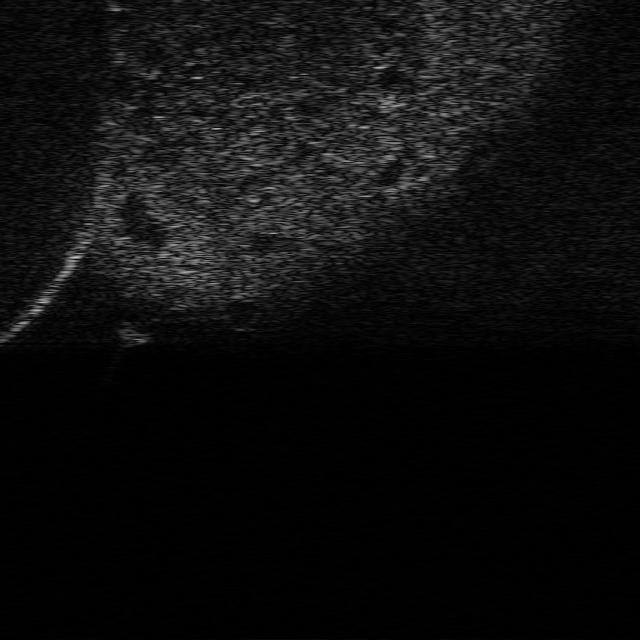cube: (106, 321, 152, 346)
